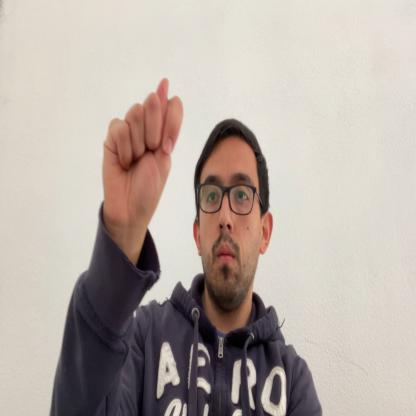T: (102, 76, 184, 227)
